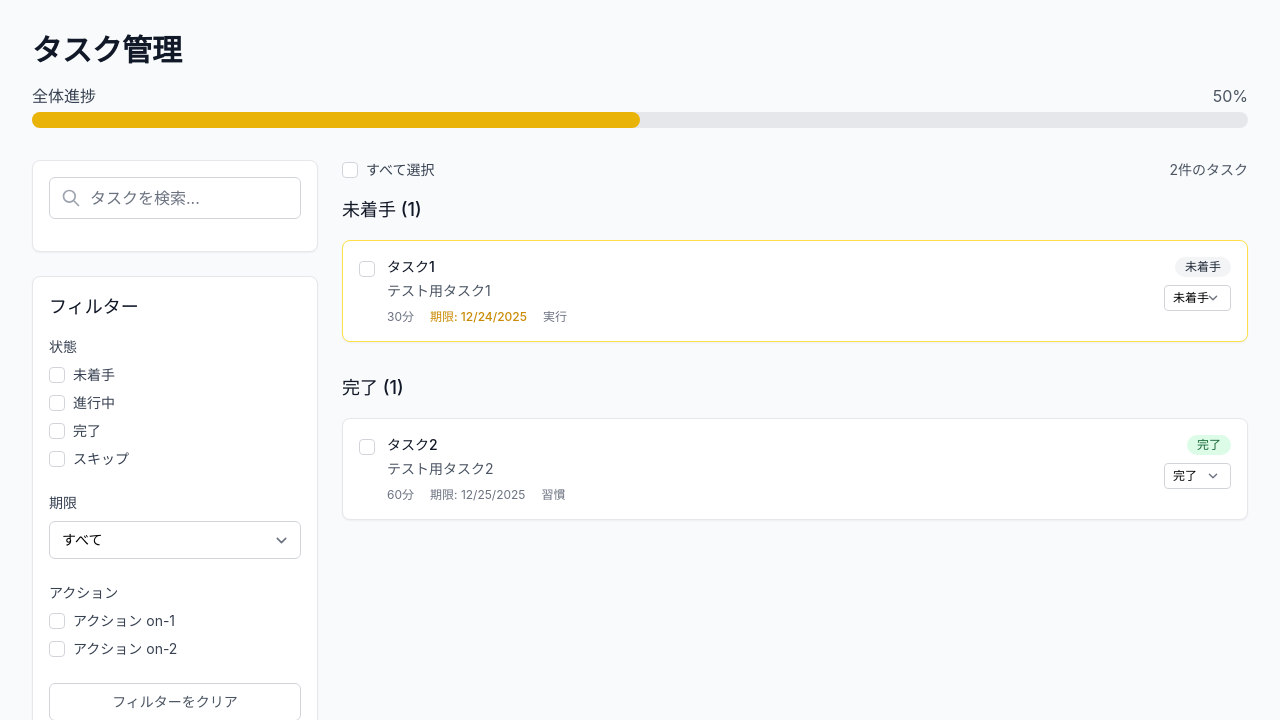
Test: TaskListPage › 全選択機能が動作する
Expected: the text "すべて選択" is shown, [366,160,434,180]
Click the checkbox labelled "すべて選択" at (350, 170), box [342,162,358,178]
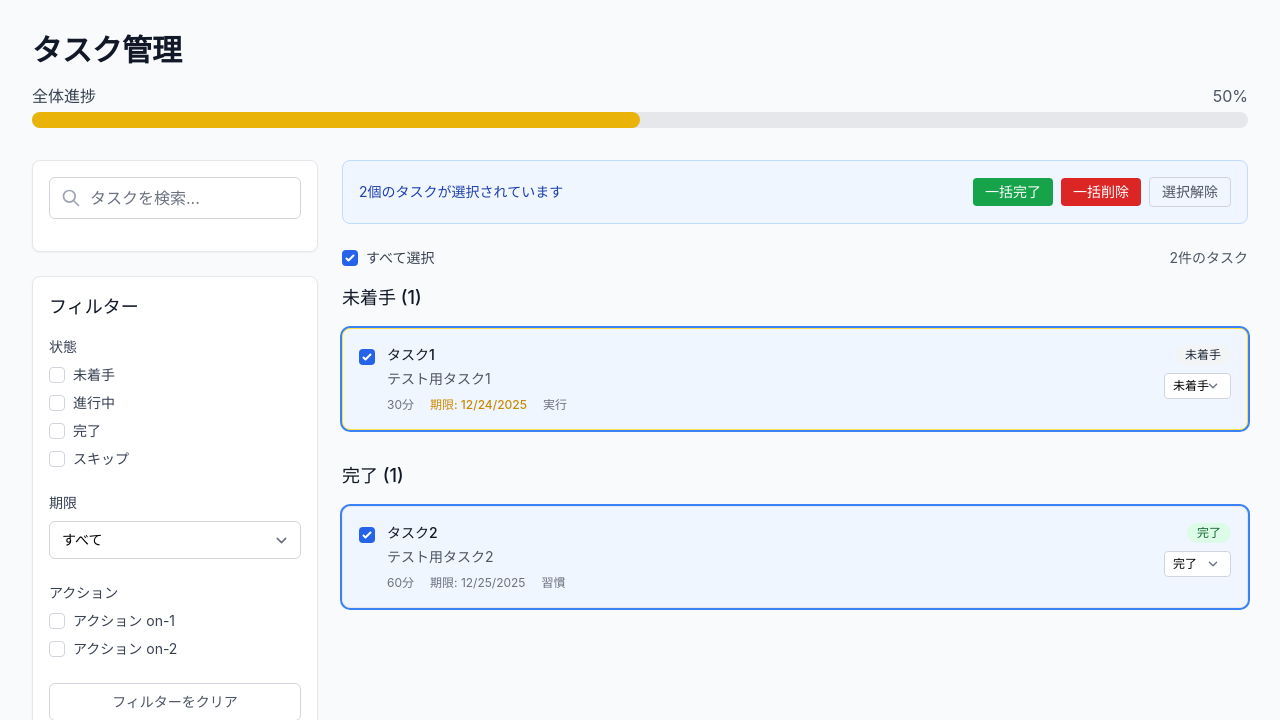
Now the text "2個のタスクが選択されています" is shown, box [359,182,563,202]
